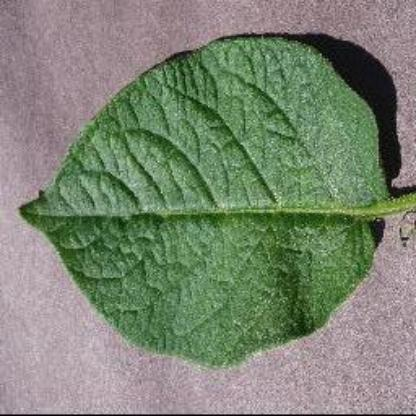Healthy-plant: (15, 30, 415, 368)
